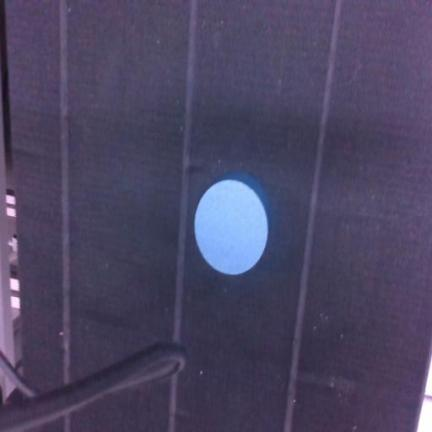cylinder: (194, 172, 267, 275)
